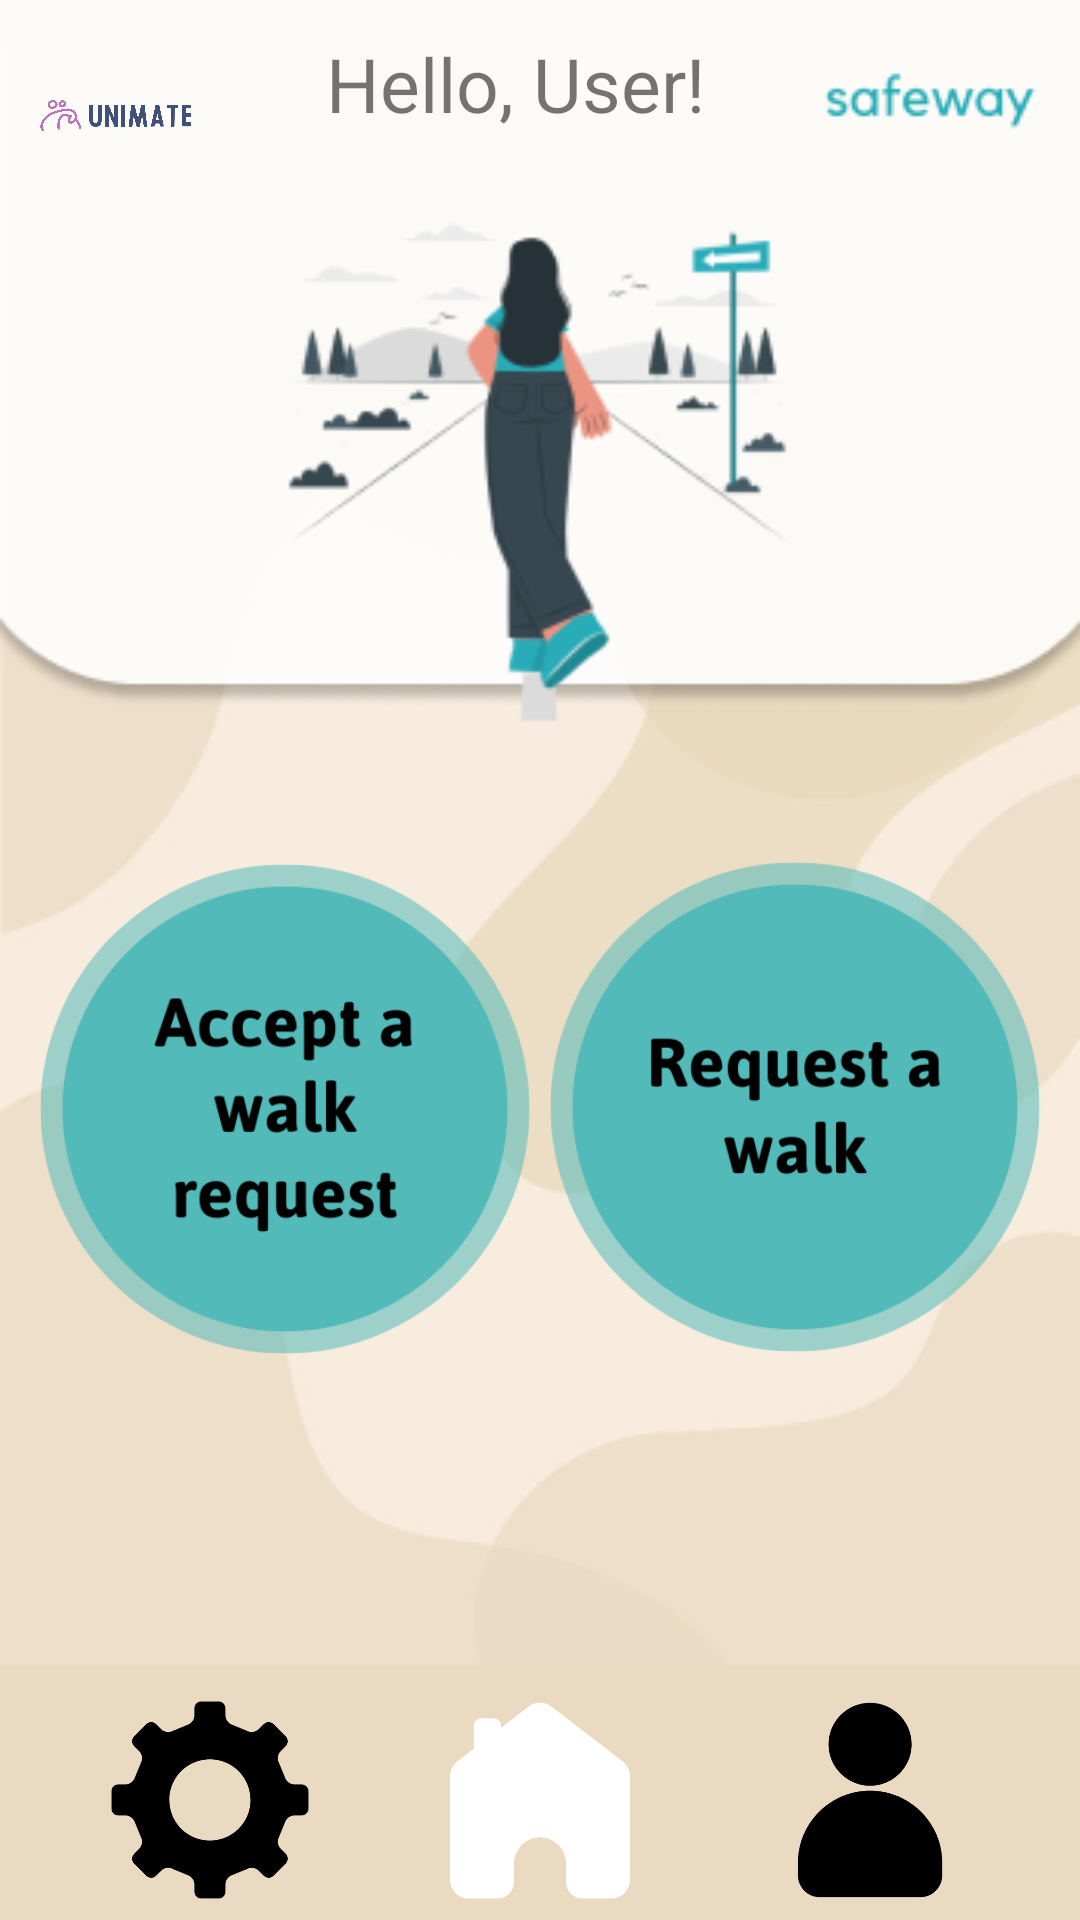

Screen size 1080 × 1920. Icon name, then its box in pixels as (x1, y1, x2, y2):
home: (450, 1703, 630, 1899)
profile: (798, 1703, 943, 1897)
settings: (111, 1701, 309, 1899)
